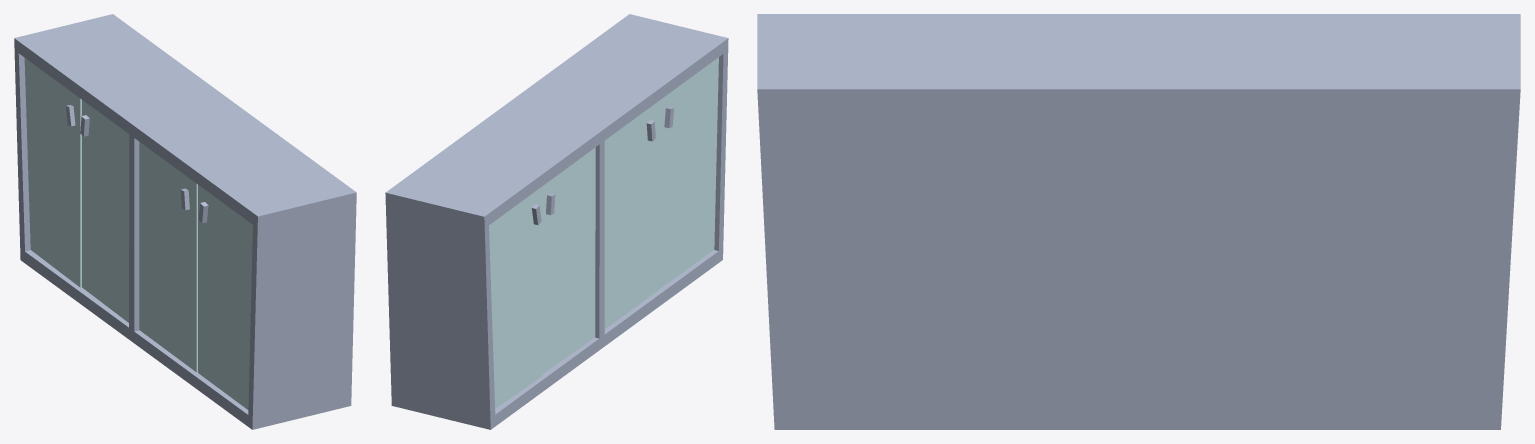
Rendered from bathroom pedestal int.fbx.
3 renders of one model, left to right at view 1: azimuth 30°, elevation 25°; view 2: azimuth 150°, elevation 25°; view 3: azimuth 270°, elevation 25°, orthographic. The views are drawn at different scales.
Parts seen in each view (by area): view 1: cupbord bathroom room.001, cupbord bathroom room.003, cupbord bathroom room, cupbord bathroom room.002, cupbord bathroom room.004; view 2: cupbord bathroom room.001, cupbord bathroom room.002, cupbord bathroom room.003, cupbord bathroom room.004, cupbord bathroom room; view 3: cupbord bathroom room.001.
Part boxes in pixels (left/top/right/bottom): cupbord bathroom room.001: left=14, top=14, right=356, bottom=429; cupbord bathroom room.003: left=139, top=142, right=197, bottom=372; cupbord bathroom room: left=24, top=58, right=81, bottom=287; cupbord bathroom room.002: left=198, top=185, right=252, bottom=409; cupbord bathroom room.004: left=80, top=100, right=129, bottom=322; cupbord bathroom room.001: left=385, top=14, right=728, bottom=429; cupbord bathroom room.002: left=658, top=57, right=718, bottom=289; cupbord bathroom room.003: left=604, top=102, right=658, bottom=328; cupbord bathroom room.004: left=542, top=147, right=595, bottom=373; cupbord bathroom room: left=489, top=186, right=542, bottom=408; cupbord bathroom room.001: left=757, top=14, right=1520, bottom=429.
Bounding box in the file's own units: 0.5365 × 1.13 × 2.29.
